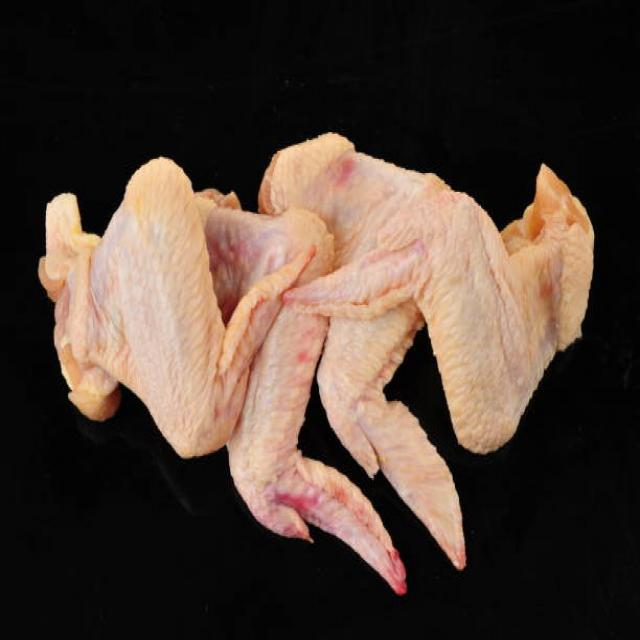Chicken: (39, 152, 302, 456), (306, 189, 599, 449)
